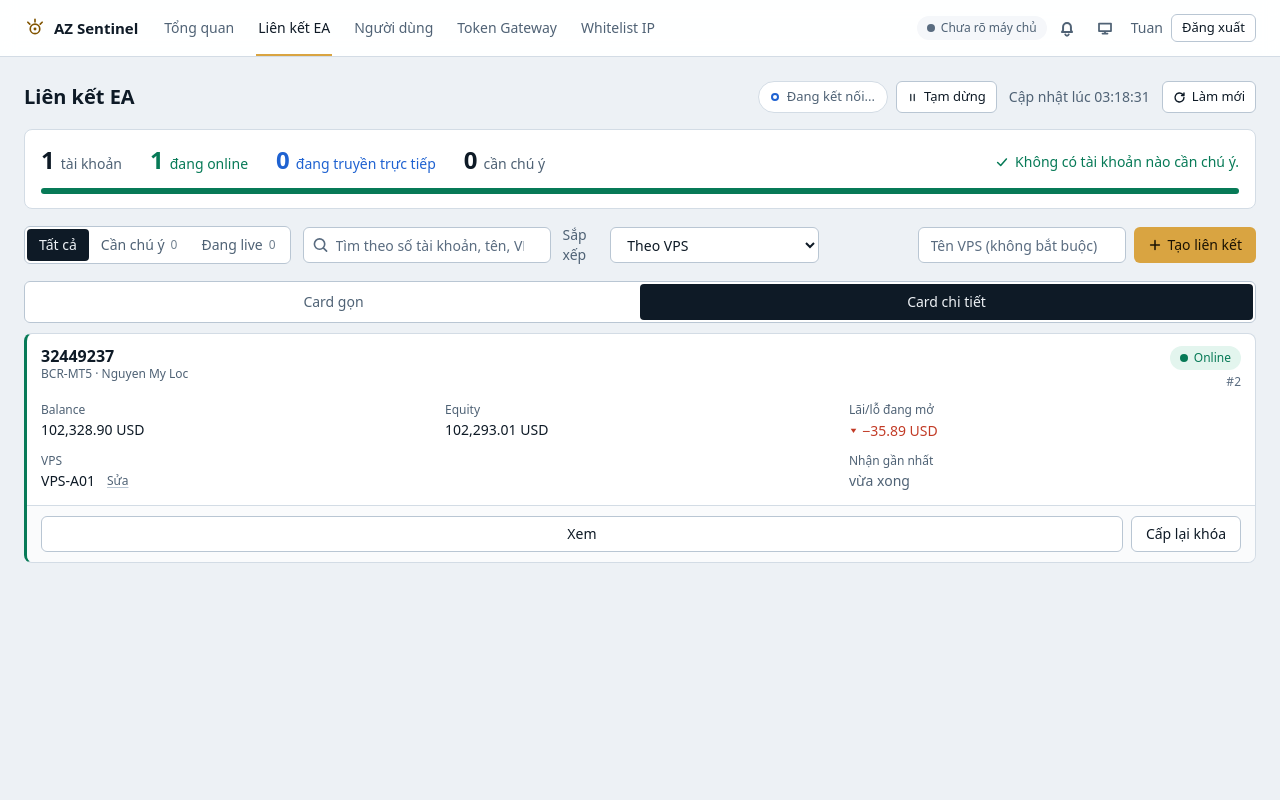
Test: Liên kết EA trên điện thoại: thẻ gọn và thẻ chi tiết › lần sau mở lại vẫn đúng kiểu đã chọn trước đó
The width and height of the screenshot is (1280, 800).
Check: the text "Equity" is shown, box [445,401,480,418]
Click the button "Card gọn". click: (334, 302)
box: [27,284,640,320]
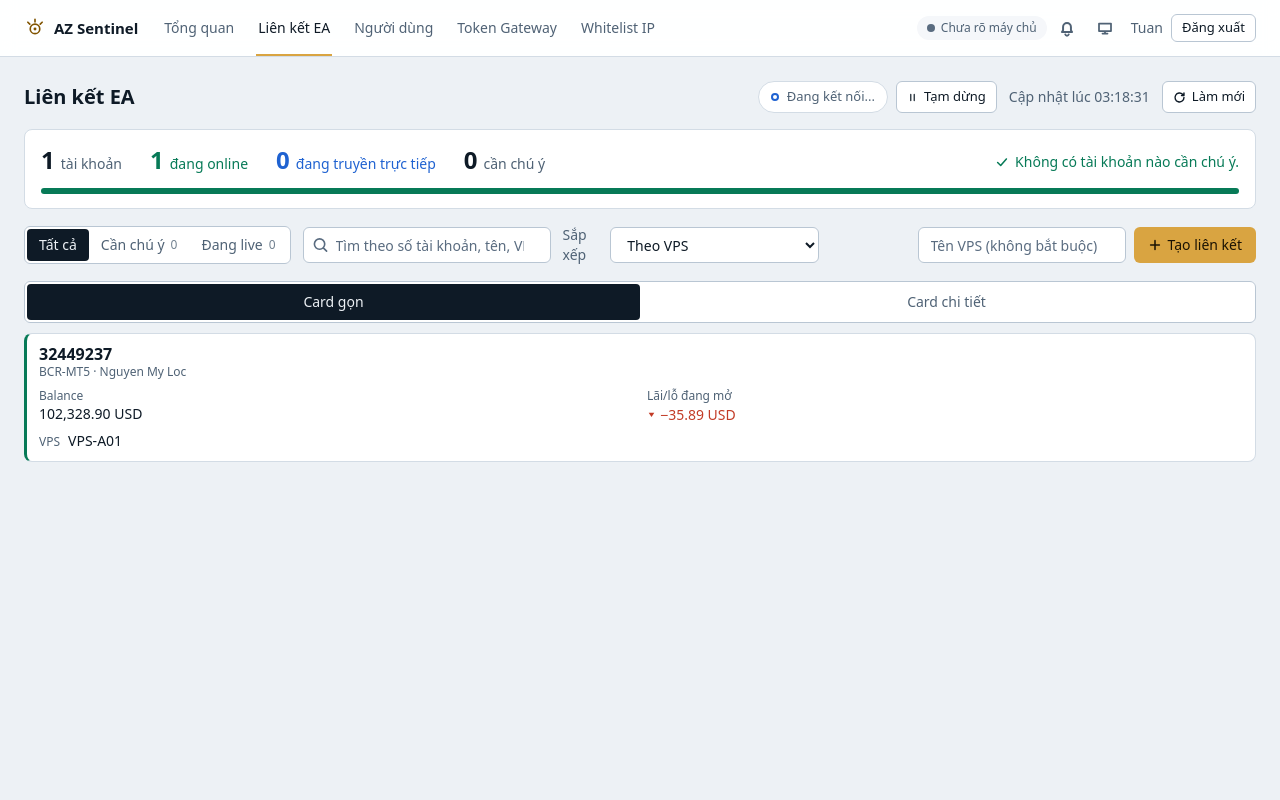
Check: the text "Equity" is gone
